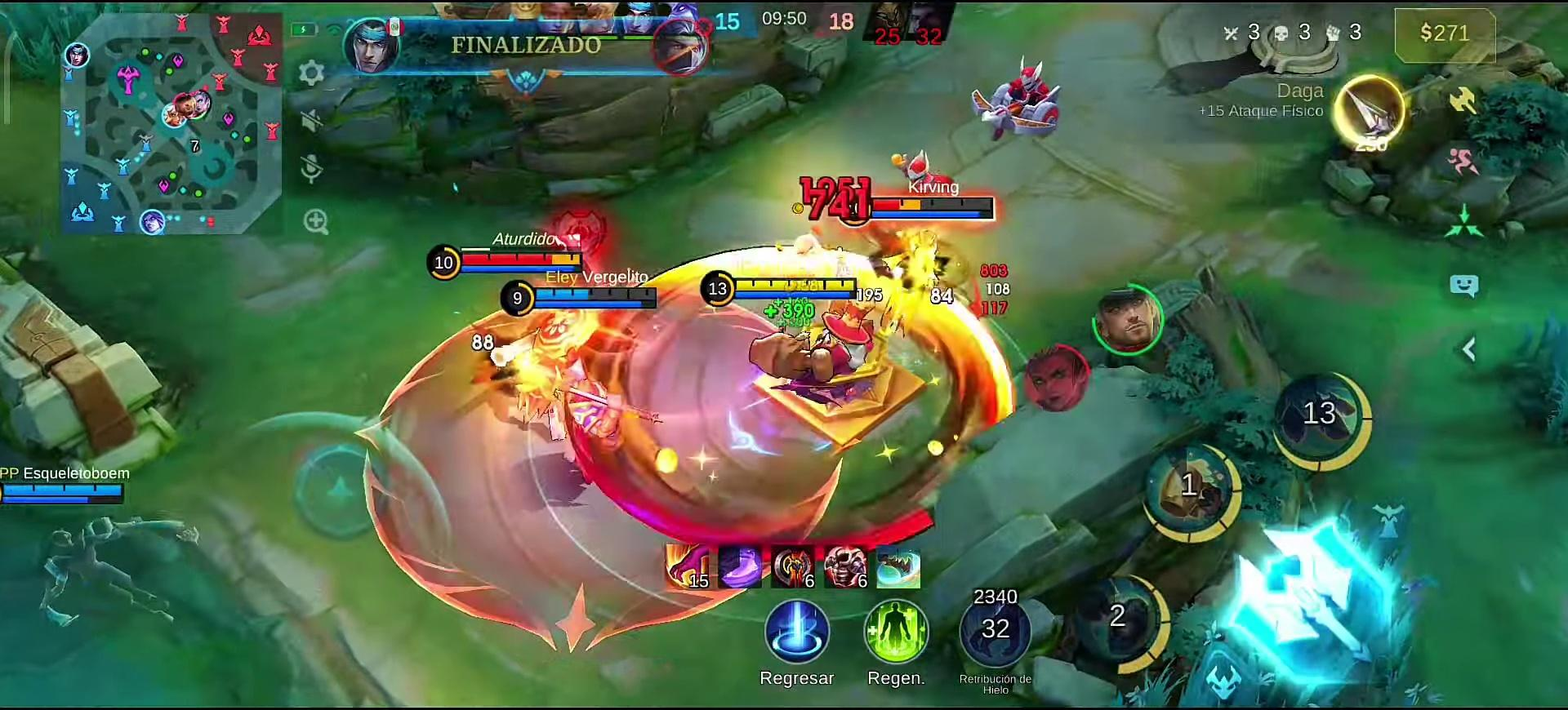bush: (0, 2, 143, 78), (1534, 319, 1568, 445)
hp_enemy: (868, 195, 994, 209), (463, 254, 584, 265)
hp_self: (736, 278, 858, 289)
minion_enemy: (973, 65, 1060, 141), (892, 152, 935, 186)
